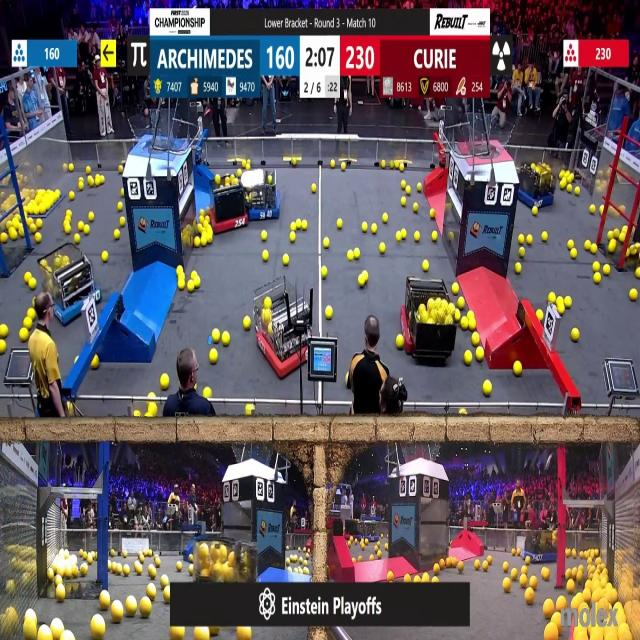ball_airborne: (239, 627, 252, 639)
ball_ground: (92, 617, 106, 640), (111, 602, 123, 622), (52, 620, 64, 640), (127, 598, 138, 618), (542, 600, 554, 618), (141, 598, 151, 618), (545, 626, 558, 640), (100, 592, 110, 610), (175, 626, 187, 640), (525, 588, 534, 604), (57, 588, 67, 602), (556, 597, 566, 611), (146, 586, 156, 600), (162, 375, 170, 391), (220, 333, 229, 347), (147, 404, 156, 418), (210, 349, 218, 364), (484, 381, 492, 396), (566, 581, 575, 594), (515, 361, 523, 375), (164, 589, 172, 603), (464, 351, 472, 365), (502, 580, 511, 592), (396, 336, 403, 351), (0, 324, 8, 337), (571, 328, 579, 341), (474, 348, 482, 361), (21, 328, 29, 341), (212, 331, 220, 344), (470, 334, 478, 346), (630, 289, 638, 301), (204, 387, 212, 399), (324, 308, 332, 320), (520, 575, 528, 587), (460, 318, 468, 330), (80, 564, 88, 576), (148, 566, 156, 578), (553, 615, 561, 627), (244, 317, 251, 330), (206, 231, 213, 244), (602, 266, 610, 277), (594, 273, 602, 284), (452, 283, 460, 294), (564, 296, 572, 307), (402, 229, 410, 240), (571, 598, 579, 609), (516, 264, 523, 276), (93, 356, 100, 368), (541, 568, 548, 580), (608, 241, 615, 253), (24, 318, 32, 328), (162, 575, 170, 585), (467, 320, 475, 330), (28, 309, 36, 319), (422, 572, 430, 582), (0, 341, 6, 354), (178, 279, 185, 290), (186, 281, 193, 292), (457, 561, 464, 572), (348, 250, 355, 261), (29, 279, 36, 290), (245, 407, 252, 418), (302, 219, 309, 230), (512, 568, 519, 579), (10, 230, 17, 241), (136, 564, 143, 575), (76, 221, 83, 232), (354, 248, 360, 260), (264, 250, 270, 262), (530, 575, 536, 587), (358, 276, 364, 288), (56, 575, 64, 584), (422, 262, 429, 272), (594, 264, 601, 274), (387, 570, 394, 580), (547, 292, 554, 302), (193, 238, 200, 248), (1, 234, 8, 244), (591, 244, 598, 254), (122, 565, 129, 575), (97, 175, 104, 185), (17, 228, 24, 238), (446, 558, 453, 568), (283, 253, 289, 264), (570, 248, 576, 259), (65, 222, 71, 233), (83, 223, 89, 234), (102, 251, 108, 262), (458, 296, 464, 307), (74, 234, 80, 245), (193, 278, 199, 289), (455, 310, 461, 321), (370, 222, 376, 232), (36, 234, 42, 244), (362, 222, 368, 232), (323, 238, 329, 248), (431, 232, 437, 242), (536, 311, 542, 321), (540, 233, 546, 243), (321, 268, 327, 278), (382, 213, 388, 223), (585, 241, 591, 251), (520, 247, 526, 257), (483, 562, 489, 572), (502, 562, 508, 572), (25, 273, 31, 283), (590, 205, 596, 215), (526, 236, 532, 246), (263, 230, 269, 240), (519, 236, 525, 246), (429, 209, 435, 219), (188, 565, 194, 575), (36, 218, 42, 228), (201, 237, 207, 247), (558, 304, 564, 314), (89, 176, 95, 186), (433, 564, 439, 574), (214, 175, 220, 185), (403, 574, 410, 582), (381, 243, 386, 254), (31, 220, 36, 231), (177, 266, 183, 275), (396, 233, 402, 242), (117, 203, 123, 212), (522, 565, 528, 574), (467, 311, 473, 320), (620, 234, 626, 243), (566, 183, 572, 192), (413, 204, 419, 213), (415, 232, 420, 242), (474, 560, 479, 570), (119, 216, 124, 226), (290, 233, 295, 243), (568, 240, 573, 250), (90, 212, 95, 222), (338, 218, 343, 228), (177, 562, 182, 572), (561, 180, 566, 190), (432, 575, 439, 582), (459, 411, 466, 418), (66, 210, 72, 218), (407, 186, 413, 194), (414, 574, 420, 582), (381, 162, 387, 170), (187, 554, 193, 562), (237, 170, 243, 178), (566, 552, 572, 560), (55, 189, 61, 197), (198, 224, 204, 232), (532, 207, 537, 216), (114, 231, 119, 240), (400, 198, 405, 207), (78, 181, 83, 190), (574, 187, 579, 196), (70, 193, 75, 202), (441, 560, 446, 569), (134, 412, 140, 419), (148, 392, 154, 399), (312, 184, 317, 192), (636, 269, 640, 279), (342, 162, 347, 170), (120, 164, 125, 172), (290, 222, 295, 230), (155, 559, 160, 567), (85, 166, 90, 174), (269, 176, 274, 184), (296, 220, 300, 230), (607, 232, 612, 240), (140, 556, 145, 564), (244, 160, 249, 168), (330, 161, 334, 170), (70, 162, 74, 171), (450, 233, 454, 242), (305, 568, 310, 575), (418, 183, 422, 191), (191, 272, 195, 280), (378, 552, 382, 560), (600, 206, 604, 214), (488, 556, 492, 564), (400, 180, 404, 188), (292, 160, 296, 168), (201, 208, 205, 216), (399, 165, 403, 173), (65, 552, 69, 560), (304, 560, 309, 566), (119, 188, 123, 195), (513, 550, 517, 557), (201, 216, 205, 223), (369, 556, 373, 562), (385, 543, 389, 549), (354, 558, 356, 564)
goal: (460, 116, 518, 158), (128, 115, 186, 152)
robot_blue: (47, 244, 101, 326), (517, 162, 556, 208), (245, 182, 280, 222), (522, 524, 558, 562), (355, 520, 381, 542)
robot_red: (256, 286, 312, 381), (401, 277, 456, 361), (212, 176, 250, 233)
